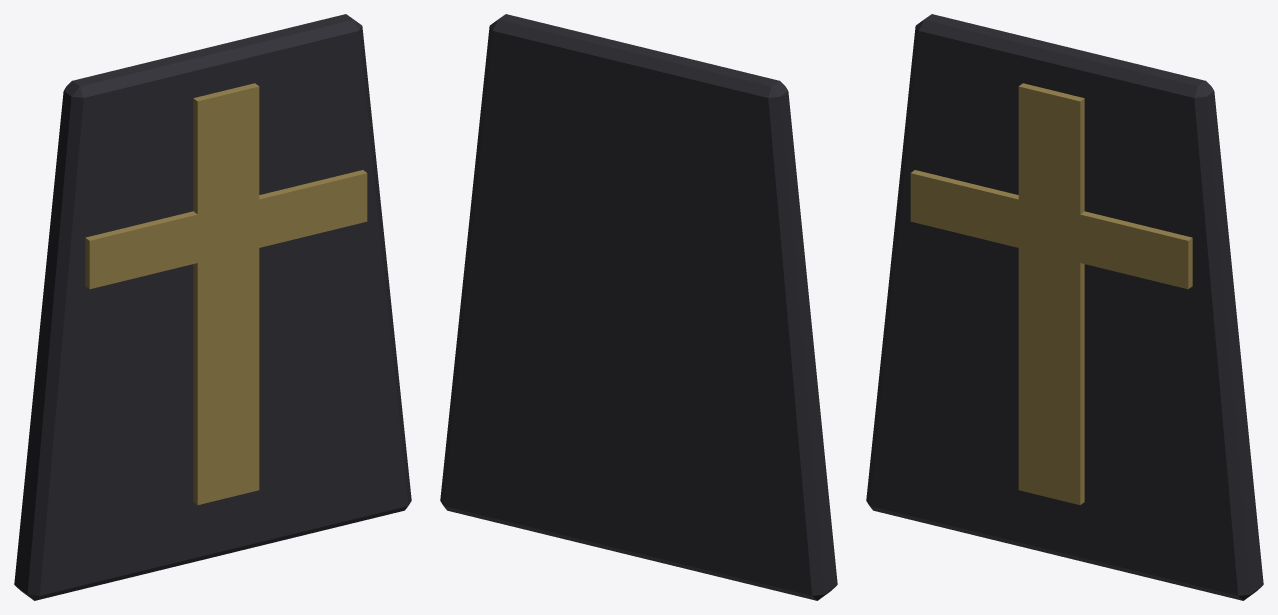
Rendered from w_shield.glb.
3 renders of one model, left to right at view 1: azimuth 30°, elevation 25°; view 2: azimuth 150°, elevation 25°; view 3: azimuth 330°, elevation 25°, orthographic.
Parts seen in each view (by area): view 1: w_shield; view 2: w_shield; view 3: w_shield.
Boxes of the visible parts, x1,y1,x2,y2 form: w_shield: [14, 14, 411, 600]; w_shield: [440, 14, 837, 600]; w_shield: [866, 14, 1263, 600].
Bounding box in the file's own units: 0.498 × 0.62 × 0.0599.
